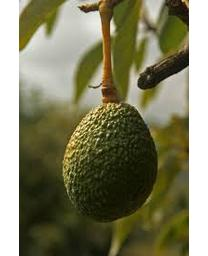avocado: (60, 101, 158, 223)
